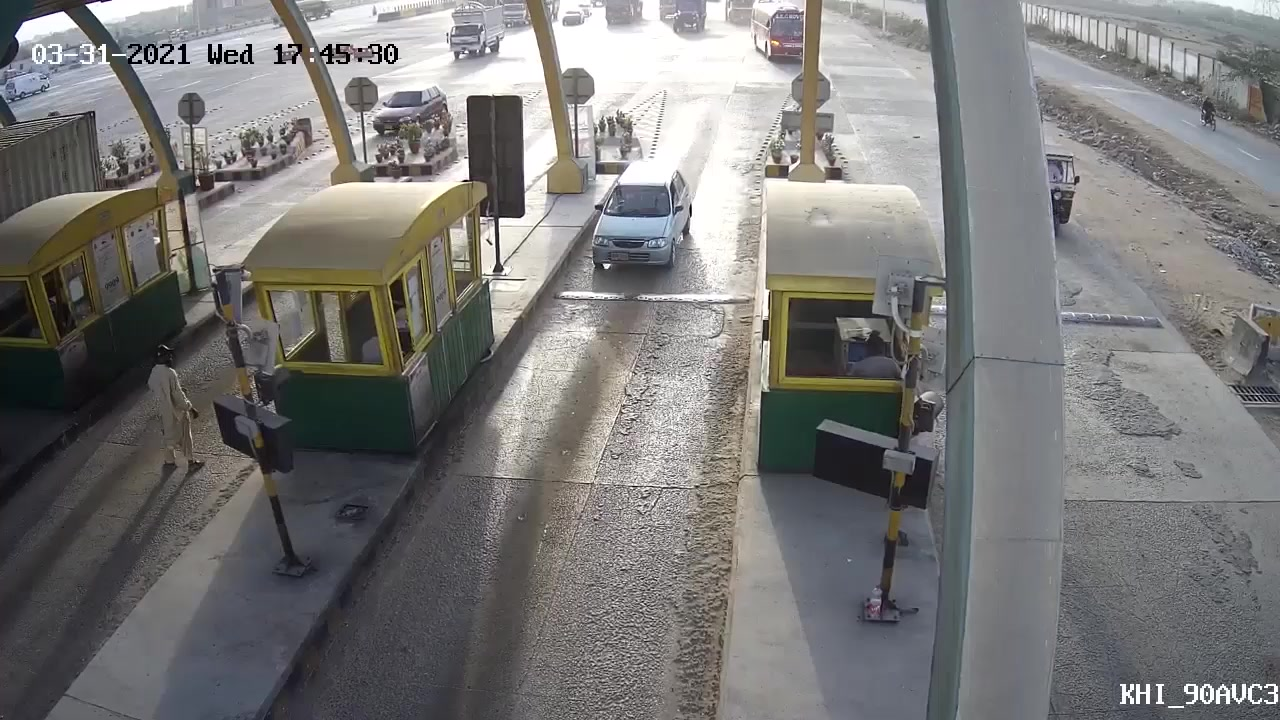F1: (586, 161, 694, 270)
